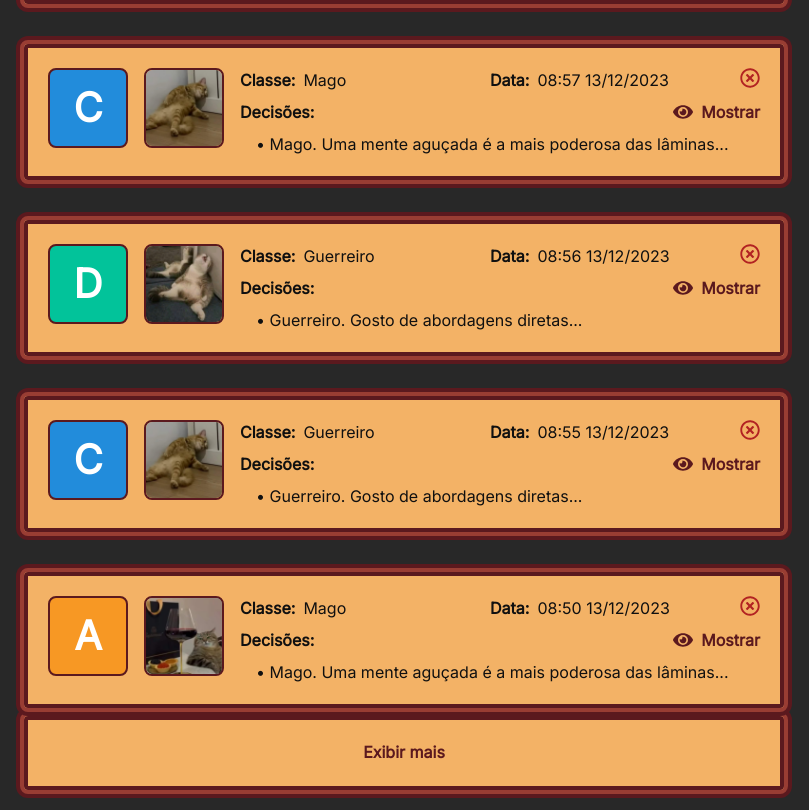
Test: MyScores Page › when click to get more score cards › and when listMyScoresApi re request fails › should render the loading messages
The width and height of the screenshot is (809, 810).
(page scrolled)
Click the link "Exibir mais" at (404, 752), box [363,742,445,762]
(page scrolled)
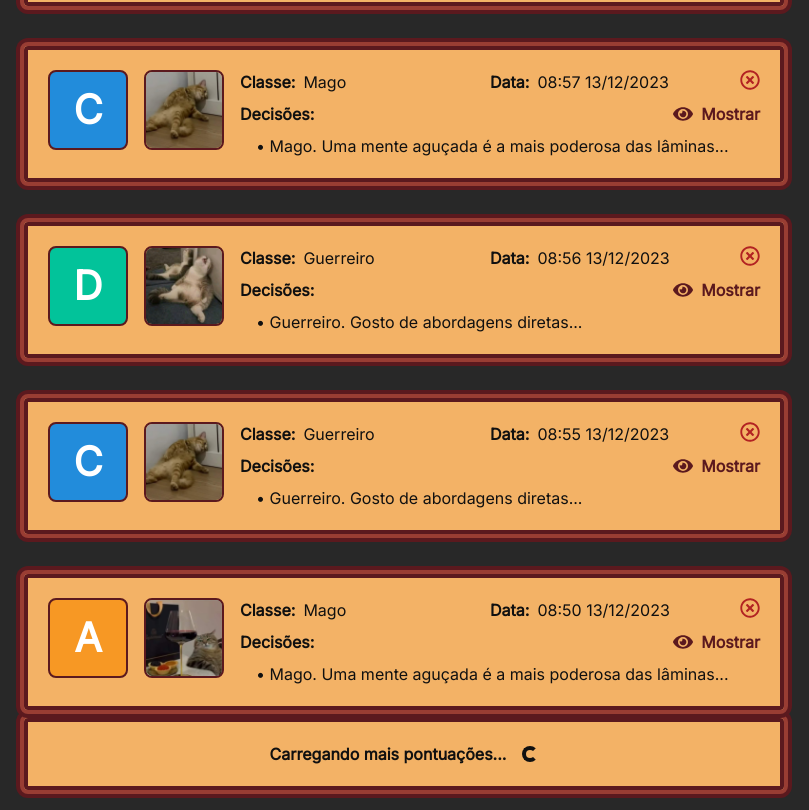
Now the text "Carregando mais pontuações..." is shown, box [270,744,538,764]
